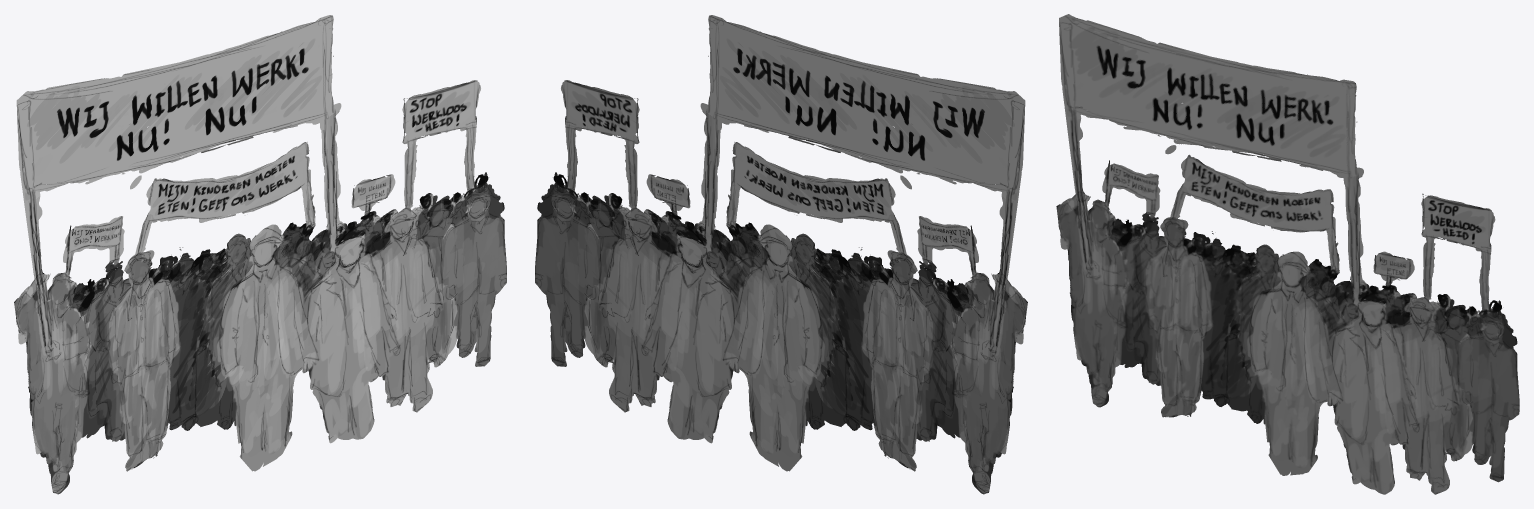
Rendered from Depression_Mob.fbx.
3 views of the same model, side by side, from view 1: azimuth 30°, elevation 25°; view 2: azimuth 150°, elevation 25°; view 3: azimuth 330°, elevation 25° (orthographic). The views are drawn at different scales.
Visible parts, largest first — view 1: pCube1; view 2: pCube1; view 3: pCube1.
Part boxes in pixels (<box>): pCube1: <box>14,15,506,494</box>; pCube1: <box>535,15,1027,494</box>; pCube1: <box>1056,14,1519,494</box>.
Size of the model in its own units: 0.0629 by 0.0536 by 0.
Materials: 1 (1 with a texture image).
